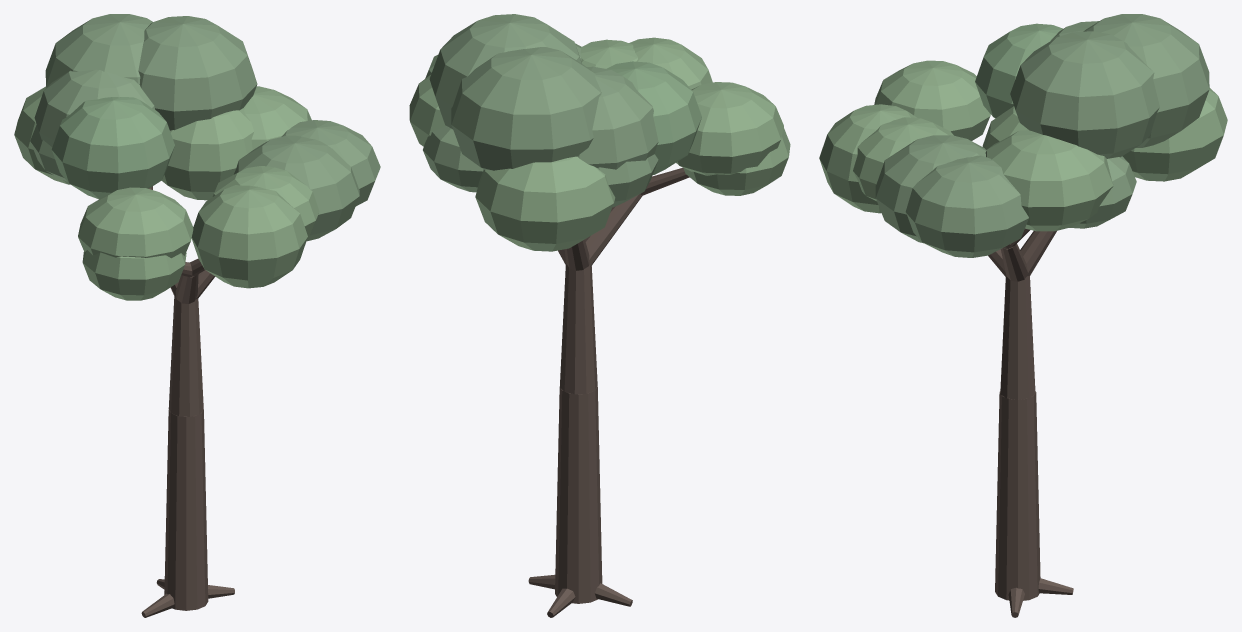
File: a-low-poly-oak-tree-9-metres-tall-85322-lowpoly.glb
The picture shows the model from 3 angles, left to right: view 1: azimuth 30°, elevation 25°; view 2: azimuth 150°, elevation 25°; view 3: azimuth 270°, elevation 25°; orthographic projection. The views are drawn at different scales.
Visible parts, largest first — view 1: tree; view 2: tree; view 3: tree.
Part boxes in pixels (x1=…): tree: x1=14, y1=14, x2=380, y2=617; tree: x1=409, y1=14, x2=790, y2=617; tree: x1=819, y1=14, x2=1227, y2=617.
Bounding box in the file's own units: 6.91 × 11.87 × 7.7.
